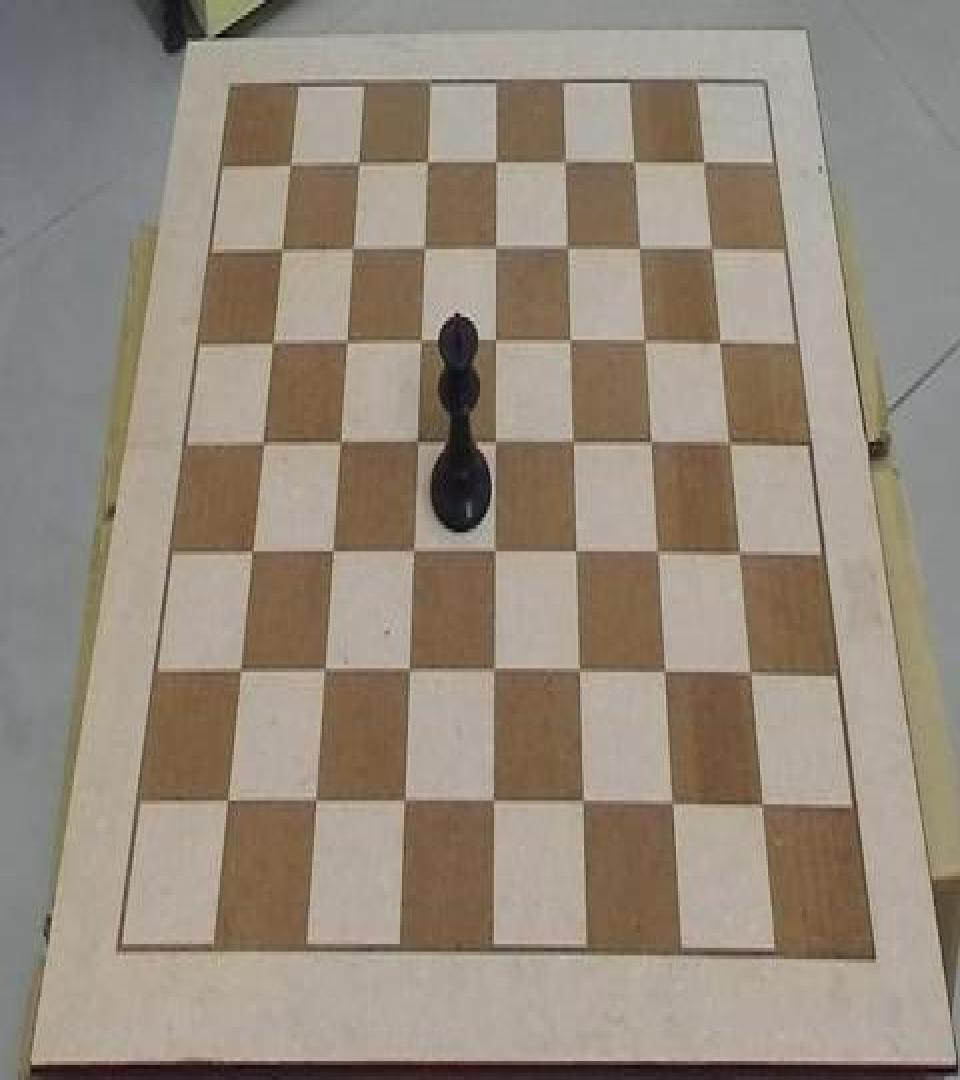xcorner: (693, 139, 713, 178), (624, 139, 644, 178), (555, 139, 575, 178), (486, 142, 506, 180), (417, 142, 437, 180), (349, 142, 369, 180), (280, 144, 300, 182), (701, 224, 721, 262), (629, 226, 649, 264), (558, 226, 578, 264), (486, 226, 506, 264), (414, 226, 434, 264), (343, 228, 363, 266), (272, 228, 292, 266), (711, 319, 731, 357), (635, 319, 655, 357), (561, 319, 581, 357), (486, 319, 506, 357), (412, 321, 432, 359), (337, 321, 357, 359), (264, 321, 284, 359), (720, 421, 740, 459), (642, 421, 662, 459), (564, 421, 584, 459), (486, 421, 506, 459), (408, 421, 428, 459), (331, 421, 351, 459), (254, 421, 274, 459), (731, 530, 751, 568), (649, 530, 669, 568), (567, 530, 587, 568), (486, 530, 506, 568), (405, 530, 425, 568), (324, 530, 344, 568), (244, 530, 264, 568), (743, 652, 763, 690), (657, 652, 677, 690), (571, 652, 591, 690), (486, 652, 506, 690), (401, 652, 421, 690), (317, 652, 337, 690), (233, 652, 253, 690), (756, 786, 776, 824), (666, 786, 686, 824), (576, 786, 596, 824), (486, 784, 506, 822), (397, 784, 417, 822), (309, 784, 329, 822), (220, 784, 240, 822)
